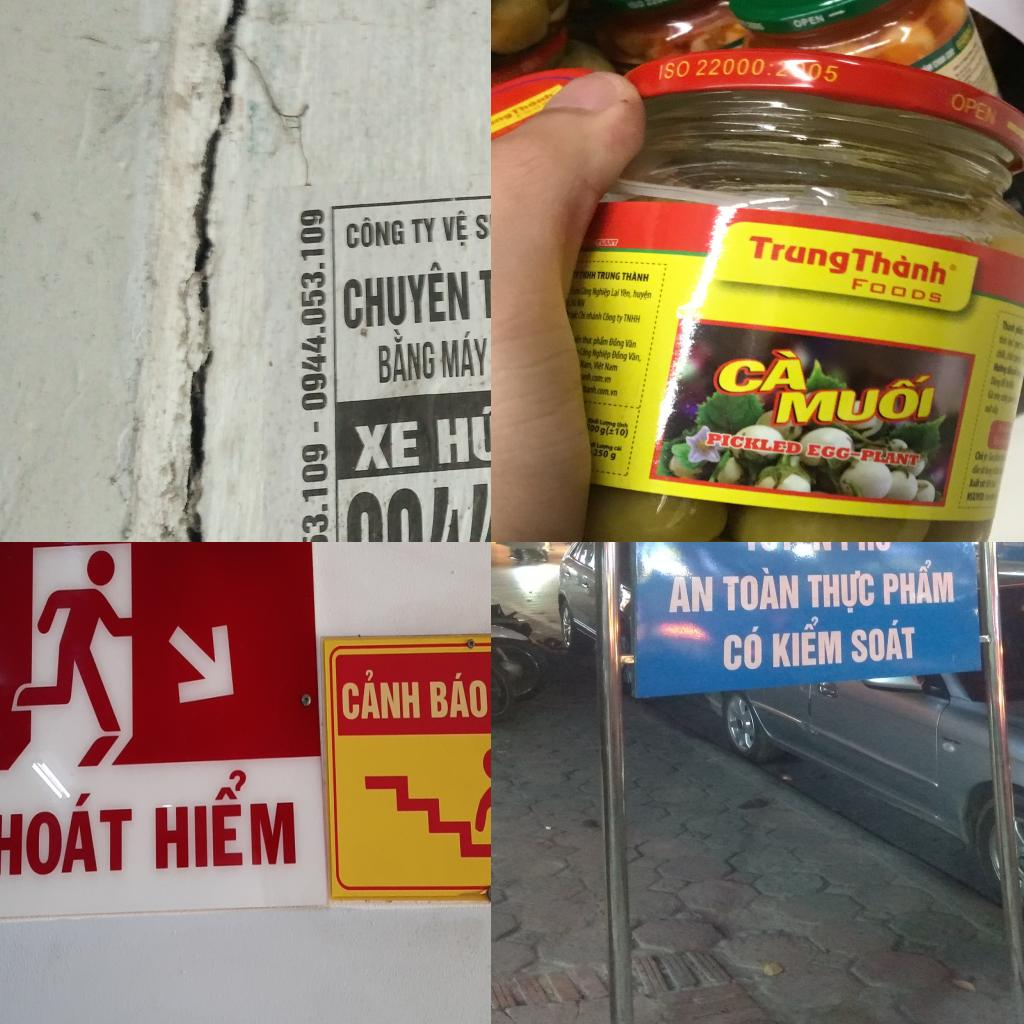text: (151, 763, 297, 871), (0, 786, 132, 879), (342, 257, 473, 332), (773, 370, 939, 429), (299, 207, 330, 413), (707, 342, 812, 400), (653, 57, 846, 87), (744, 232, 849, 278), (850, 244, 955, 290), (338, 668, 422, 725), (770, 616, 846, 670), (376, 325, 438, 385), (721, 566, 801, 612), (354, 418, 422, 472), (880, 559, 956, 607), (435, 402, 491, 467), (805, 569, 877, 616), (805, 441, 924, 469), (849, 618, 921, 664), (300, 441, 332, 542), (700, 428, 805, 458), (427, 672, 489, 722), (848, 276, 944, 304), (439, 330, 489, 380), (946, 91, 1004, 130), (346, 214, 408, 250), (720, 626, 765, 672), (666, 574, 714, 614), (440, 208, 470, 249), (508, 90, 556, 115), (625, 0, 703, 14), (736, 542, 832, 552), (789, 11, 829, 31), (410, 214, 436, 244), (586, 424, 630, 440), (491, 111, 516, 134), (583, 384, 619, 399), (474, 210, 491, 241), (589, 448, 619, 463), (622, 270, 652, 282), (580, 372, 612, 383), (597, 269, 621, 282), (632, 288, 654, 302), (999, 318, 1017, 335), (622, 310, 641, 326), (592, 237, 622, 247), (592, 284, 612, 298), (962, 491, 986, 502), (611, 348, 628, 363), (627, 350, 644, 365), (608, 335, 625, 349), (593, 347, 611, 360), (602, 310, 617, 325), (578, 346, 593, 360), (592, 334, 608, 347), (585, 310, 602, 322), (599, 417, 617, 428), (579, 358, 593, 372), (604, 361, 620, 373), (624, 338, 638, 351), (581, 284, 593, 298), (620, 286, 632, 300), (592, 360, 606, 372), (580, 270, 596, 280), (597, 442, 614, 451), (586, 415, 600, 425), (974, 450, 985, 462), (968, 478, 980, 489), (1014, 323, 1024, 336), (582, 333, 592, 346), (576, 309, 587, 320), (610, 286, 620, 298), (616, 420, 629, 428), (576, 298, 587, 307), (613, 444, 625, 452), (616, 313, 623, 326), (980, 478, 986, 488), (983, 453, 988, 462)
